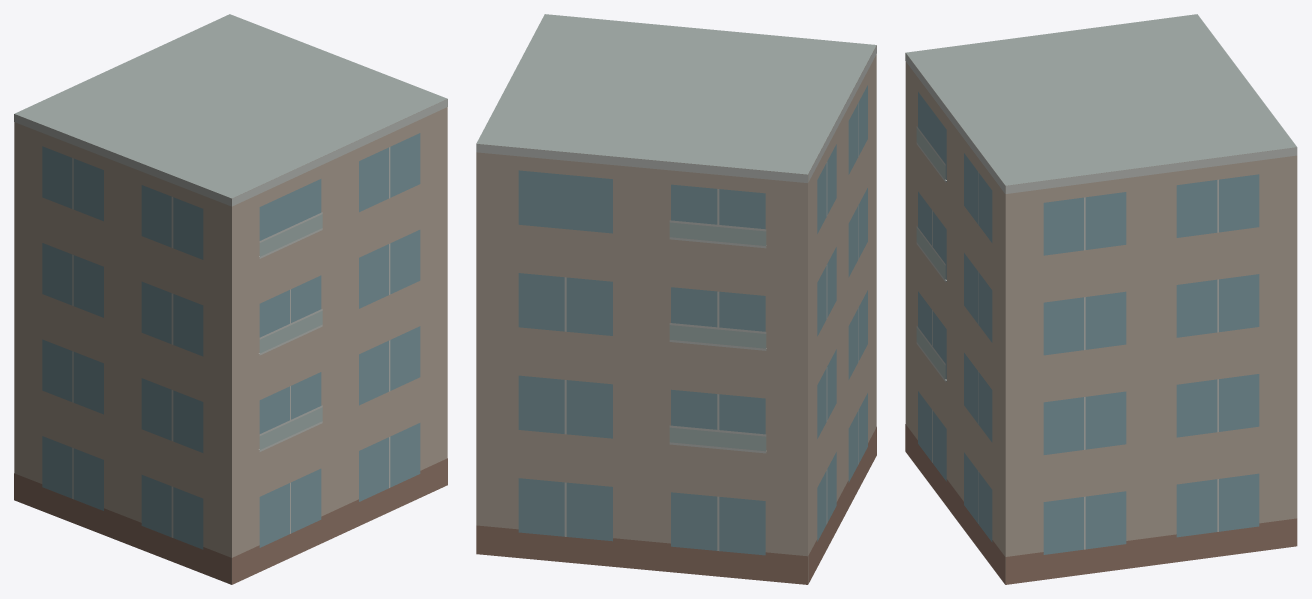
File: survey-upis-32615555.glb
The picture shows the model from 3 angles, left to right: view 1: azimuth 30°, elevation 25°; view 2: azimuth 150°, elevation 25°; view 3: azimuth 270°, elevation 25°; orthographic projection. The views are drawn at different scales.
Visible parts, largest first — view 1: survey-upis-32615555.tmp; view 2: survey-upis-32615555.tmp; view 3: survey-upis-32615555.tmp.
Boxes of the visible parts, x1,y1,x2,y2 form: survey-upis-32615555.tmp: (14,14,447,584); survey-upis-32615555.tmp: (476,14,876,584); survey-upis-32615555.tmp: (905,14,1297,584).
Size of the model in its own units: 10.72 by 11.6 by 10.33.
